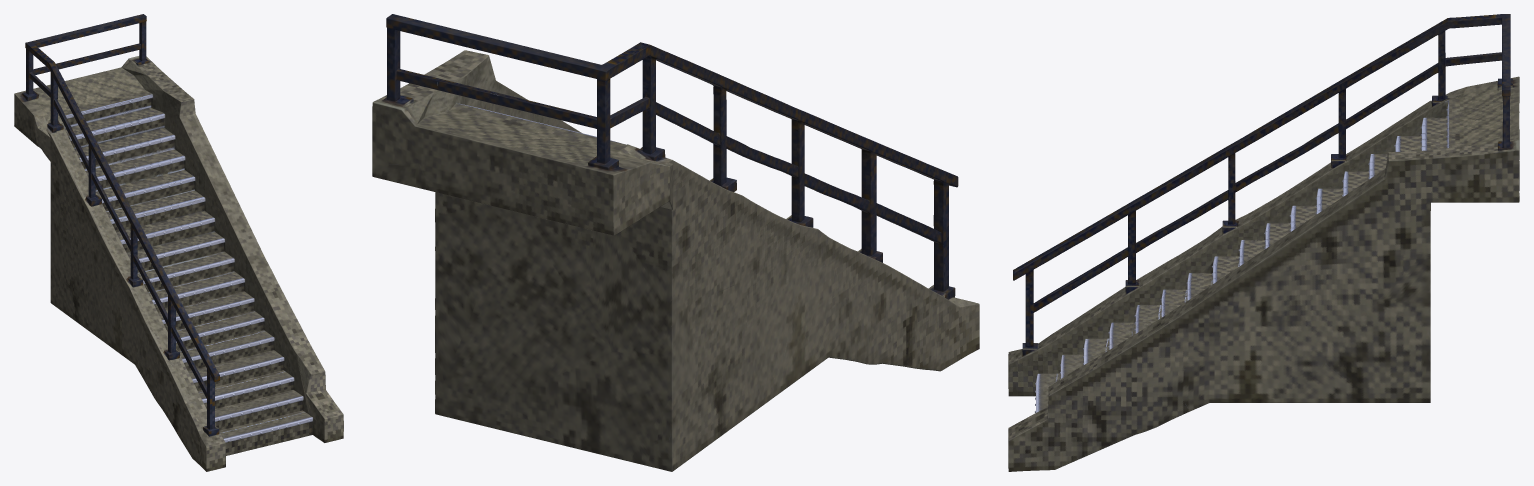
Rendered from Meshy_AI_model.glb.
3 views of the same model, side by side, from view 1: azimuth 30°, elevation 25°; view 2: azimuth 150°, elevation 25°; view 3: azimuth 270°, elevation 25° (orthographic). The views are drawn at different scales.
Size of the model in its own units: 0.7812 by 1.55 by 1.9.
1 material, 1 textured.
